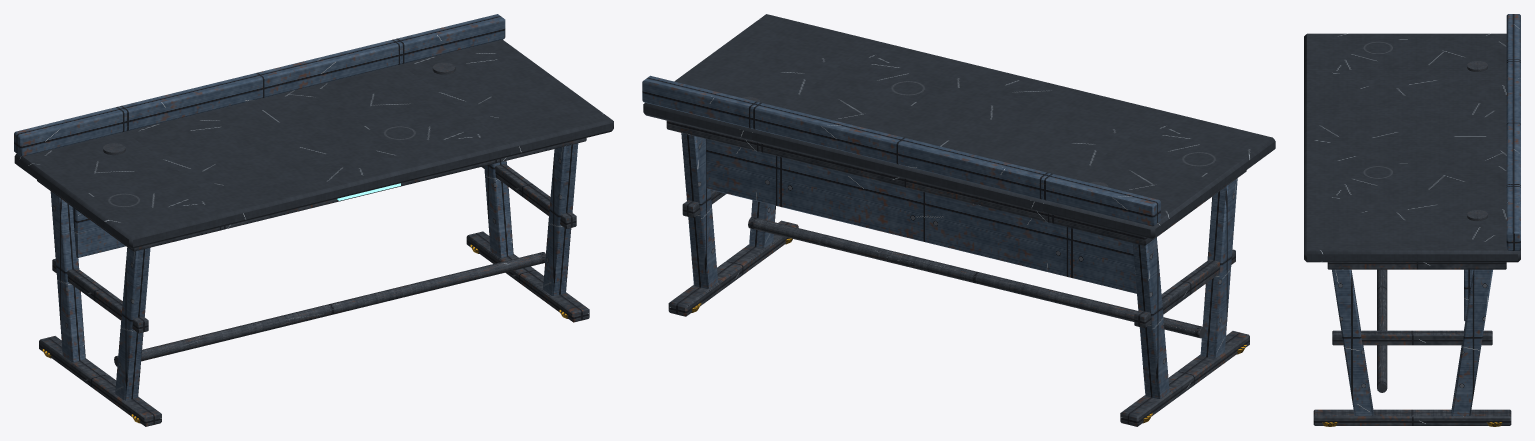
The model's file is control-console-desk-01.glb.
The picture shows the model from 3 angles, left to right: view 1: azimuth 30°, elevation 25°; view 2: azimuth 150°, elevation 25°; view 3: azimuth 270°, elevation 25°; orthographic projection. The views are drawn at different scales.
Visible parts, largest first — view 1: mesa_control; view 2: mesa_control; view 3: mesa_control.
Boxes of the visible parts, x1=… form: mesa_control: x1=14, y1=14, x2=613, y2=426; mesa_control: x1=642, y1=14, x2=1275, y2=426; mesa_control: x1=1304, y1=14, x2=1520, y2=426.
Bounding box in the file's own units: 2.2 × 0.95 × 0.92.
Materials: 5 (4 with a texture image).
